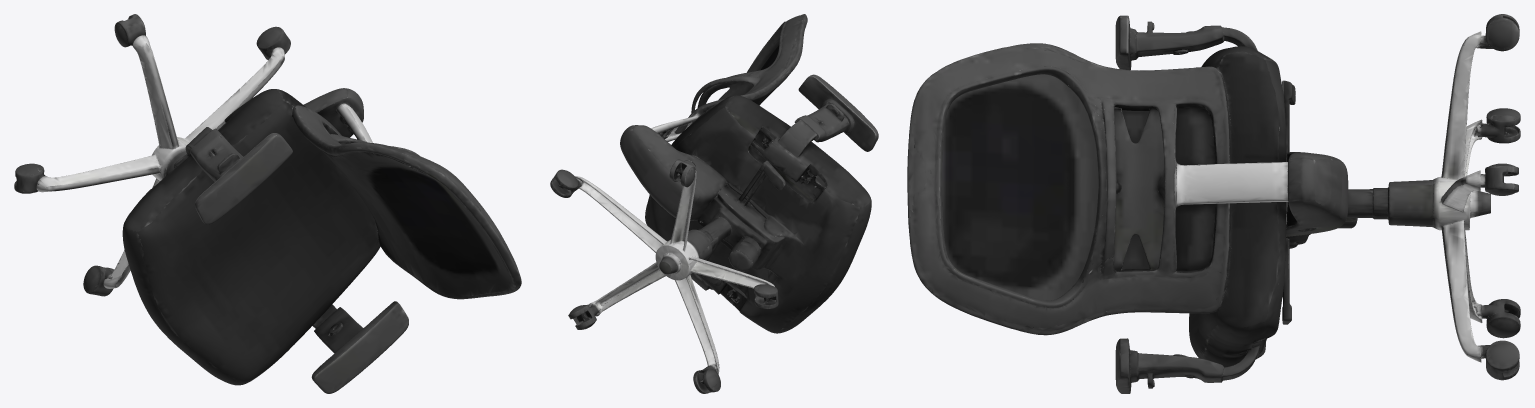
The picture shows the model from 3 angles, left to right: view 1: azimuth 30°, elevation 25°; view 2: azimuth 150°, elevation 25°; view 3: azimuth 270°, elevation 25°; orthographic projection. The views are drawn at different scales.
Visible parts, largest first — view 1: Mesh_0.012; view 2: Mesh_0.012; view 3: Mesh_0.012.
Boxes of the visible parts, left/top/right/bottom form: Mesh_0.012: left=14, top=14, right=521, bottom=393; Mesh_0.012: left=550, top=14, right=878, bottom=393; Mesh_0.012: left=907, top=14, right=1520, bottom=393.
Size of the model in its own units: 0.0212 by 0.0209 by 0.0323.
1 material, 1 textured.
